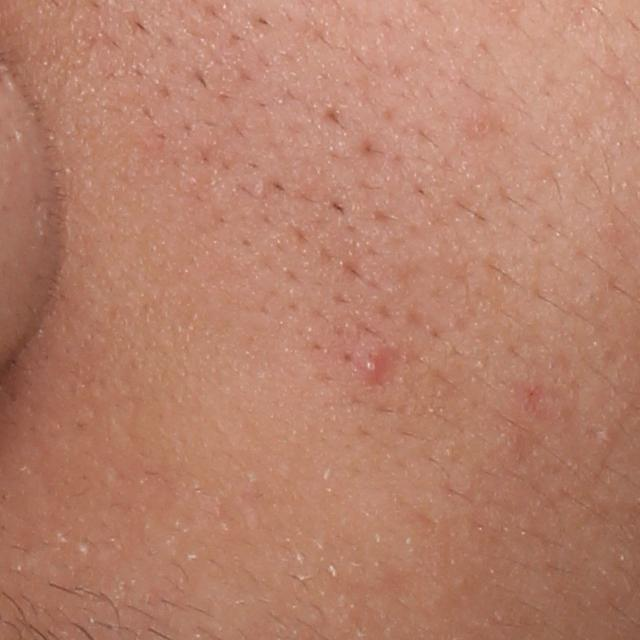comedo: (474, 113, 496, 134)
